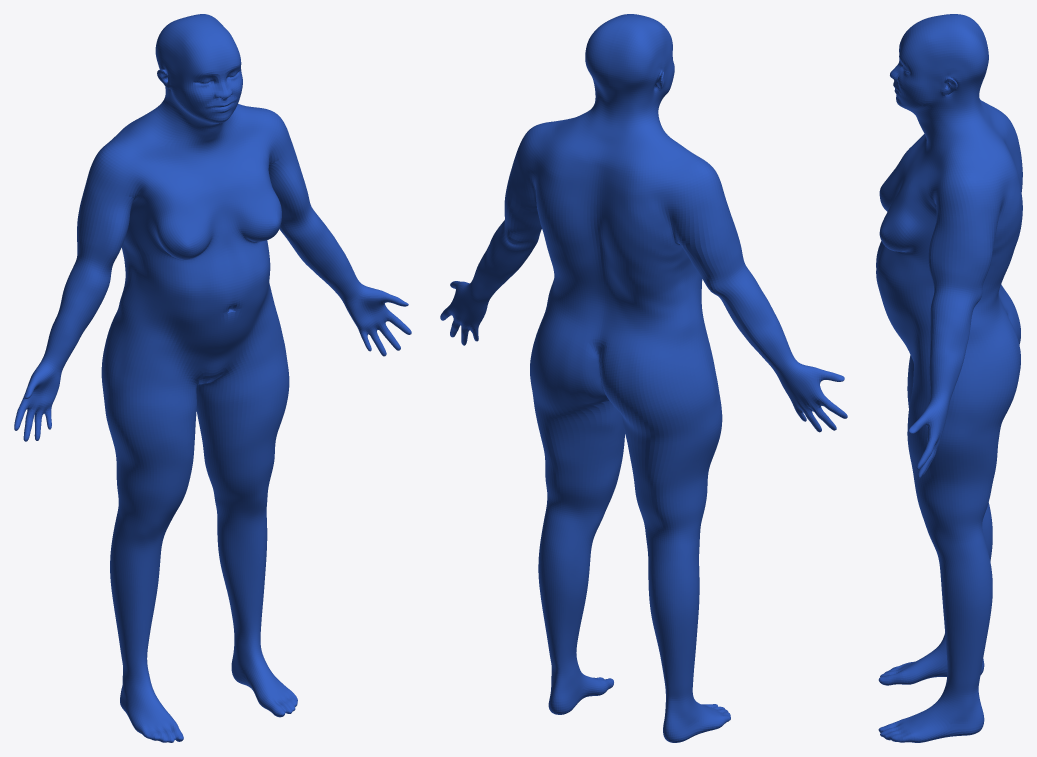
File: VH_F_Skin_v1.0.fbx
3 views of the same model, side by side, from view 1: azimuth 30°, elevation 25°; view 2: azimuth 150°, elevation 25°; view 3: azimuth 270°, elevation 25° (orthographic). The views are drawn at different scales.
Visible parts, largest first — view 1: VHF_skin; view 2: VHF_skin; view 3: VHF_skin.
Boxes of the visible parts, x1=… form: VHF_skin: x1=14, y1=14, x2=411, y2=742; VHF_skin: x1=440, y1=14, x2=847, y2=742; VHF_skin: x1=876, y1=14, x2=1022, y2=742.
Size of the model in its own units: 104 by 172 by 33.18.
